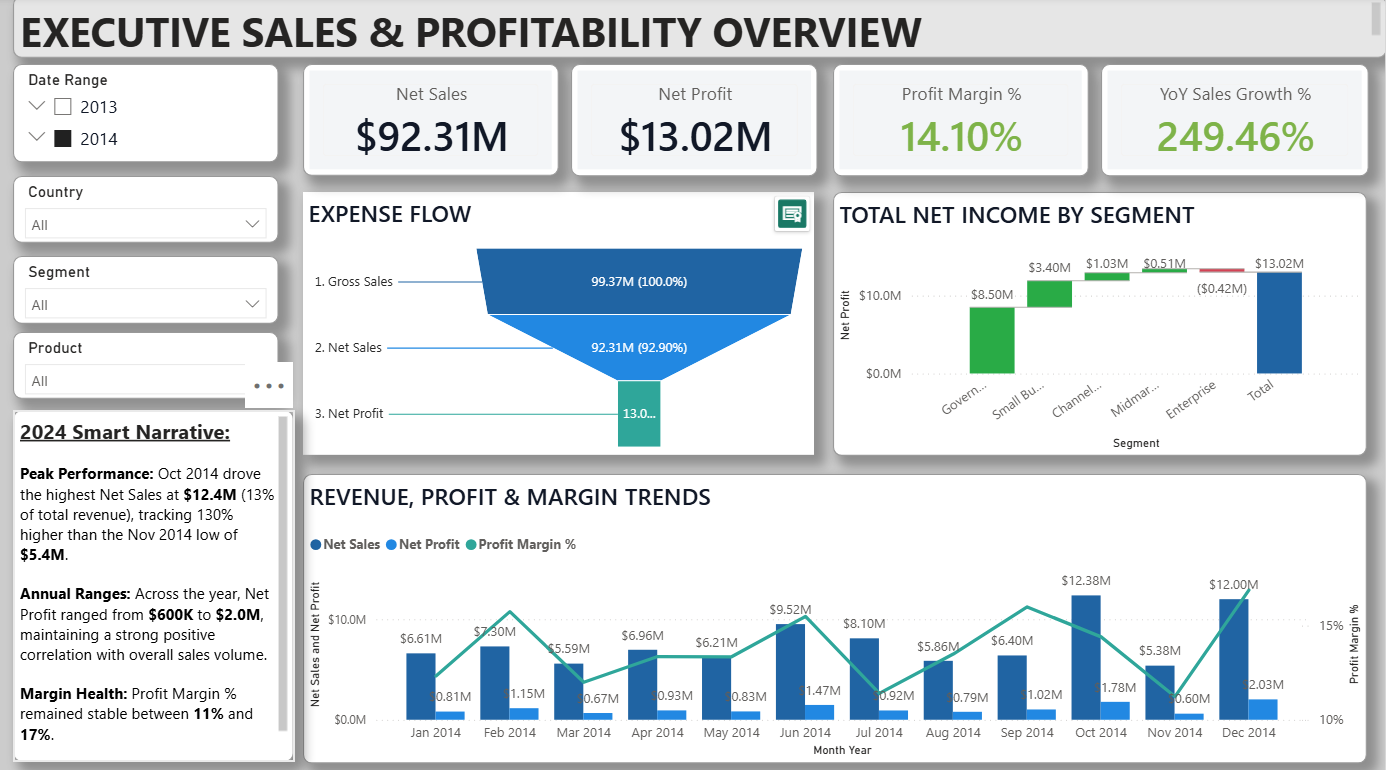

Layout of this report page (visuals, bound fields, positions):
{"tool":"powerbi","page":{"name":"EXECUTIVE P&L & PROFITABILITY OVERVIEW","canvas":[1280,720],"ordinal":1},"visuals":[{"type":"FunnelChartA96234ADB8D143D1837FEC426BB34781","title":"EXPENSE FLOW","fields":{"categories":["Funnel_Data.Stage"],"measure":["_Measures.PowerViz_Value"]},"box":[284.5,180.5,470.5,242],"z":0},{"type":"waterfallChart","title":"TOTAL NET INCOME BY SEGMENT","fields":{"Category":["Fact_Financials.Segment"],"Y":["_Measures.Total Profit/ Net Income"]},"box":[771.6,180.5,491.7,243.1],"z":1000},{"type":"lineClusteredColumnComboChart","title":"REVENUE, PROFIT & MARGIN TRENDS","fields":{"Category":["Dim_Date.Month Year"],"Y":["Sum(Fact_Financials.Net Sales)","Sum(Fact_Financials.Net Profit)"],"Y2":["_Measures.Profit Margin %"]},"box":[284.5,439.5,979.3,266.3],"z":2000},{"type":"textbox","box":[16.6,0,1265.1,57.1],"z":3000},{"type":"slicer","fields":{"Values":["Dim_Date.Year","Dim_Date.Month"]},"box":[17.2,62.4,244.3,90.4],"z":4000},{"type":"slicer","fields":{"Values":["Fact_Financials.Country"]},"box":[17.2,165.7,244.3,61.3],"z":5000},{"type":"slicer","fields":{"Values":["Fact_Financials.Segment"]},"box":[17.2,238.9,244.3,62.4],"z":6000},{"type":"slicer","fields":{"Values":["Fact_Financials.Product"]},"box":[17.2,310,244.3,61.3],"z":7000},{"type":"textbox","box":[17.2,381,258.3,323.9],"z":8000},{"type":"cardVisual","fields":{"Data":["_Measures.Total Net Sales"]},"box":[283.6,62.6,235.7,103.1],"z":9000},{"type":"cardVisual","fields":{"Data":["_Measures.Total Net Profit"]},"box":[530.6,62.4,227.1,103.3],"z":10000},{"type":"cardVisual","fields":{"Data":["_Measures.Profit Margin %"]},"box":[771.7,62.4,235.7,103.3],"z":11000},{"type":"cardVisual","fields":{"Data":["_Measures.YoY Sales Growth %"]},"box":[1018.1,62.4,246.5,103.3],"z":12000}]}

Visuals, with their boxes in screenshot pixels (x1, y1, x2, y2), scaled from the page's 1280x720 canvas onto the 1386x770 screenshot:
"EXPENSE FLOW" FunnelChartA96234ADB8D143D1837FEC426BB34781: (left=308, top=193, right=818, bottom=452)
"TOTAL NET INCOME BY SEGMENT" waterfallChart: (left=835, top=193, right=1368, bottom=453)
"REVENUE, PROFIT & MARGIN TRENDS" lineClusteredColumnComboChart: (left=308, top=470, right=1368, bottom=755)
textbox: (left=18, top=0, right=1385, bottom=61)
slicer - Dim_Date.Year x Dim_Date.Month: (left=19, top=67, right=283, bottom=163)
slicer - Fact_Financials.Country: (left=19, top=177, right=283, bottom=243)
slicer - Fact_Financials.Segment: (left=19, top=255, right=283, bottom=322)
slicer - Fact_Financials.Product: (left=19, top=332, right=283, bottom=397)
textbox: (left=19, top=407, right=298, bottom=754)
cardVisual - _Measures.Total Net Sales: (left=307, top=67, right=562, bottom=177)
cardVisual - _Measures.Total Net Profit: (left=575, top=67, right=820, bottom=177)
cardVisual - _Measures.Profit Margin %: (left=836, top=67, right=1091, bottom=177)
cardVisual - _Measures.YoY Sales Growth %: (left=1102, top=67, right=1369, bottom=177)
